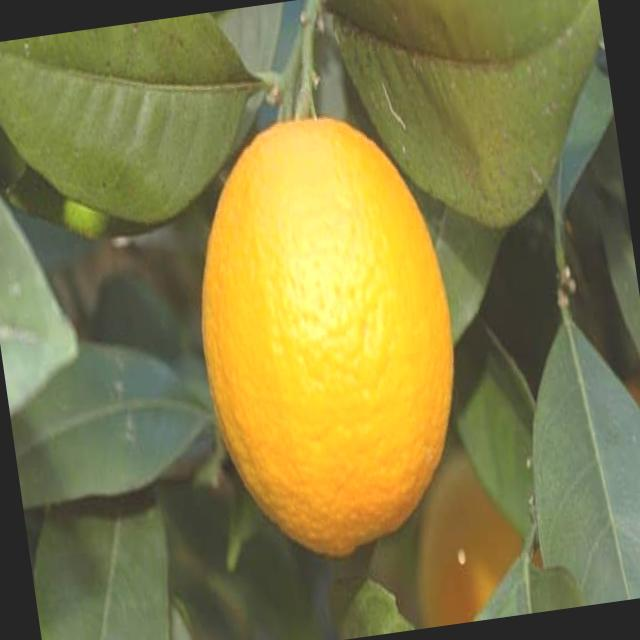orange: (175, 99, 476, 554)
